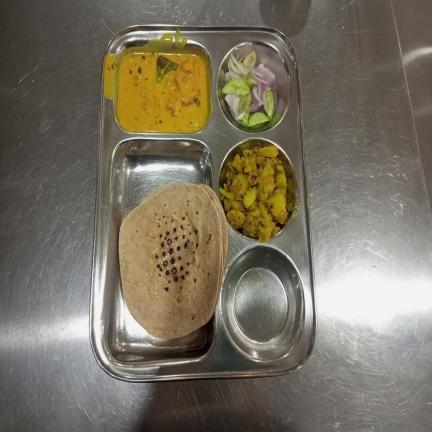Curry: (116, 52, 208, 133)
Plate: (89, 25, 318, 383)
Roti: (118, 180, 230, 341)
Salad: (222, 48, 276, 127)
Zeera Aalu: (221, 145, 290, 243)
